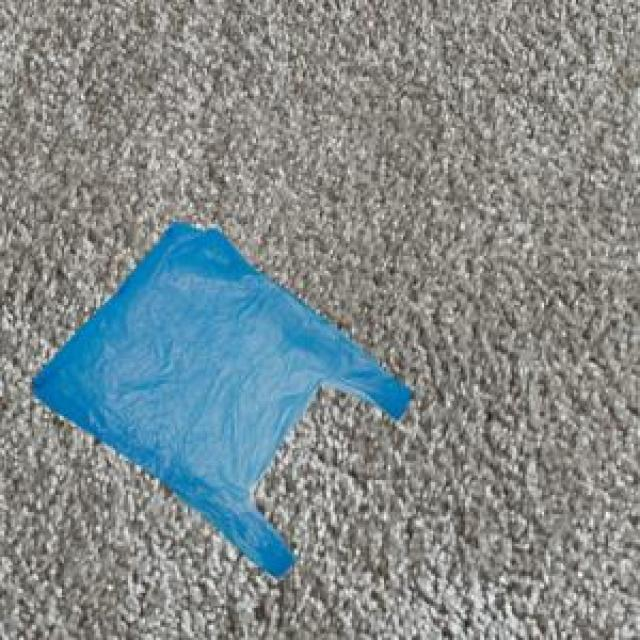plastic: (14, 206, 450, 604)
